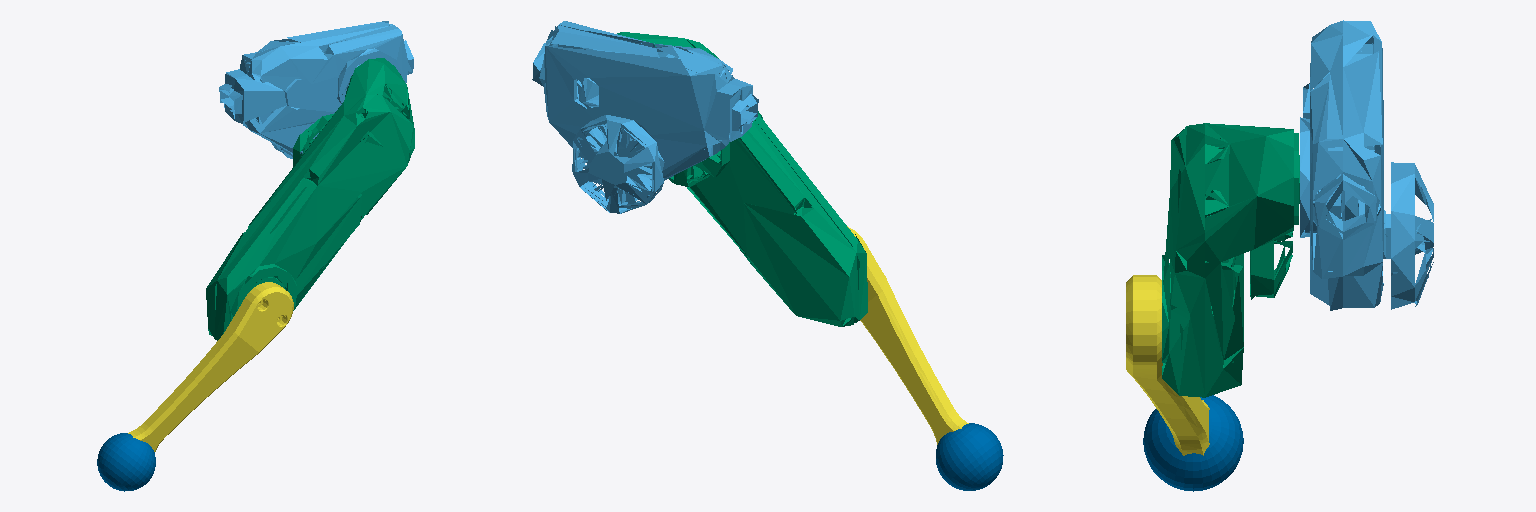
robot.urdf — ester:
<?xml version="1.0" ?>
<!-- =================================================================================== -->
<!-- |    This document was autogenerated by xacro from front_right_leg.urdf.xacro     | -->
<!-- |    EDITING THIS FILE BY HAND IS NOT RECOMMENDED                                 | -->
<!-- =================================================================================== -->
<robot name="ester">
  <!-- Dummy shoulder joint -->
  <link name="front_right_hip_aa_link"/>
  <link name="front_right_hip_fe_link">
    <inertial>
      <mass value="0.153185"/>
      <origin rpy="0 0 3.141592653589793" xyz="0.01808 0.004477 -0.011405"/>
      <inertia ixx="6.080E-05" ixy="3.521E-06" ixz="2.540E-06" iyy="1.052E-04" iyz="-1.247E-05" izz="7.157E-05"/>
    </inertial>
    <visual>
      <origin rpy="0 0 3.141592653589793" xyz="0 0 0"/>
      <geometry>
        <mesh filename="package://ester_description/meshes/leg/front_hip_fe.stl" scale="0.001 -0.001 0.001"/>
      </geometry>
    </visual>
    <collision>
      <origin rpy="0 0 3.141592653589793" xyz="0 0 0"/>
      <geometry>
        <mesh filename="package://ester_description/meshes/leg/front_hip_fe.stl" scale="0.001 -0.001 0.001"/>
      </geometry>
    </collision>
  </link>
  <joint name="front_right_hip_fe_joint" type="revolute">
    <origin rpy="0 0 0" xyz="0.083972 -0.0878 0"/>
    <axis xyz="1 0 0"/>
    <limit effort="2.43" lower="-0.7853981633974483" upper="0.17453292519943295" velocity="83.33333333333333"/>
    <dynamics damping="0.05" friction="0.1"/>
    <parent link="front_right_hip_aa_link"/>
    <child link="front_right_hip_fe_link"/>
  </joint>
  <transmission name="front_right_hip_fe_transmission">
    <type>transmission_interface/SimpleTransmission</type>
    <joint name="front_right_hip_fe_joint">
      <hardwareInterface>hardware_interface/EffortJointInterface</hardwareInterface>
    </joint>
    <actuator name="front_right_hip_fe_motor">
      <hardwareInterface>hardware_interface/EffortJointInterface</hardwareInterface>
      <mechanicalReduction>1</mechanicalReduction>
    </actuator>
  </transmission>
  <link name="front_right_upper_leg_link">
    <inertial>
      <mass value="0.158127"/>
      <origin rpy="0 0 -1.5707963267948966" xyz="0.0 -0.022563 -0.07012"/>
      <inertia ixx="2.824E-04" ixy="4.259E-09" ixz="-6.584E-08" iyy="2.882E-04" iyz="3.543E-05" izz="3.742E-05"/>
    </inertial>
    <visual>
      <origin rpy="0 0 -1.5707963267948966" xyz="0 0 0"/>
      <geometry>
        <mesh filename="package://ester_description/meshes/leg/front_upper_leg.stl" scale="0.001 0.001 0.001"/>
      </geometry>
    </visual>
    <collision>
      <origin rpy="0 0 -1.5707963267948966" xyz="0 0 0"/>
      <geometry>
        <mesh filename="package://ester_description/meshes/leg/front_upper_leg.stl" scale="0.001 0.001 0.001"/>
      </geometry>
    </collision>
  </link>
  <joint name="front_right_upper_leg_joint" type="revolute">
    <origin rpy="0 0.7853981633974483 0" xyz="0 -0.01415 0"/>
    <axis xyz="0 1 0"/>
    <limit effort="4.32" lower="-2.356194490192345" upper="2.356194490192345" velocity="46.875"/>
    <dynamics damping="0.05" friction="0.1"/>
    <parent link="front_right_hip_fe_link"/>
    <child link="front_right_upper_leg_link"/>
  </joint>
  <transmission name="front_right_upper_leg_transmission">
    <type>transmission_interface/SimpleTransmission</type>
    <joint name="front_right_upper_leg_joint">
      <hardwareInterface>hardware_interface/EffortJointInterface</hardwareInterface>
    </joint>
    <actuator name="front_right_upper_leg_motor">
      <hardwareInterface>hardware_interface/EffortJointInterface</hardwareInterface>
      <mechanicalReduction>1</mechanicalReduction>
    </actuator>
  </transmission>
  <link name="front_right_lower_leg_link">
    <inertial>
      <mass value="0.023961"/>
      <origin xyz="0 -0.00816 -0.044589"/>
      <inertia ixx="3.727E-05" ixy="-5.628E-16" ixz="2.285E-15" iyy="3.709E-05" iyz="5.027E-06" izz="1.815E-06"/>
    </inertial>
    <visual>
      <origin rpy="0 0 3.141592653589793" xyz="0 0 0"/>
      <geometry>
        <mesh filename="package://ester_description/meshes/leg/front_lower_leg.stl" scale="0.001 0.001 0.001"/>
      </geometry>
    </visual>
    <collision>
      <origin rpy="0 0 3.141592653589793" xyz="0 0 0"/>
      <geometry>
        <mesh filename="package://ester_description/meshes/leg/front_lower_leg.stl" scale="0.001 0.001 0.001"/>
      </geometry>
    </collision>
  </link>
  <joint name="front_right_lower_leg_joint" type="revolute">
    <axis xyz="0 1 0"/>
    <limit effort="4.32" lower="-2.5132741228718345" upper="2.5132741228718345" velocity="46.875"/>
    <dynamics damping="0.05" friction="0.1"/>
    <origin rpy="0 0 0" xyz="0 -0.0315 -0.1232"/>
    <parent link="front_right_upper_leg_link"/>
    <child link="front_right_lower_leg_link"/>
  </joint>
  <transmission name="front_right_lower_leg_transmission">
    <type>transmission_interface/SimpleTransmission</type>
    <joint name="front_right_lower_leg_joint">
      <hardwareInterface>hardware_interface/EffortJointInterface</hardwareInterface>
    </joint>
    <actuator name="front_right_lower_leg_motor">
      <hardwareInterface>hardware_interface/EffortJointInterface</hardwareInterface>
      <mechanicalReduction>1</mechanicalReduction>
    </actuator>
  </transmission>
  <link name="front_right_foot_contact_link">
    <inertial>
      <mass value="0.01"/>
      <origin xyz="0 0 0"/>
      <inertia ixx="1e-9" ixy="0.0" ixz="0.0" iyy="1e-9" iyz="0.0" izz="1e-9"/>
    </inertial>
    <visual>
      <origin xyz="0 0 0"/>
      <geometry>
        <sphere radius="0.015"/>
      </geometry>
    </visual>
    <collision>
      <origin xyz="0 0 0"/>
      <geometry>
        <sphere radius="0.015"/>
      </geometry>
    </collision>
  </link>
  <joint name="front_right_foot_contact_joint" type="fixed">
    <origin xyz="0 0 -0.105"/>
    <parent link="front_right_lower_leg_link"/>
    <child link="front_right_foot_contact_link"/>
  </joint>
</robot>

--- Render facts (derived) ---
The picture shows the robot from 3 angles, left to right: view 1: azimuth 30°, elevation 25°; view 2: azimuth 150°, elevation 25°; view 3: azimuth 270°, elevation 25°; orthographic projection.
Robot: ester — 5 links, 4 joints (3 revolute, 1 fixed); root link front_right_hip_aa_link; default pose: every joint at zero.
Visible links, largest first — view 1: front_right_upper_leg_link, front_right_hip_fe_link, front_right_lower_leg_link, front_right_foot_contact_link; view 2: front_right_hip_fe_link, front_right_upper_leg_link, front_right_lower_leg_link, front_right_foot_contact_link; view 3: front_right_upper_leg_link, front_right_hip_fe_link, front_right_lower_leg_link, front_right_foot_contact_link.
Boxes of the visible links, box(x1,y1,x2,y2) form: front_right_upper_leg_link: box(206, 58, 414, 340); front_right_hip_fe_link: box(219, 21, 413, 158); front_right_lower_leg_link: box(128, 282, 293, 451); front_right_foot_contact_link: box(97, 433, 155, 491); front_right_hip_fe_link: box(532, 21, 758, 213); front_right_upper_leg_link: box(617, 32, 867, 326); front_right_lower_leg_link: box(847, 226, 968, 444); front_right_foot_contact_link: box(936, 423, 1003, 490); front_right_upper_leg_link: box(1162, 123, 1299, 397); front_right_hip_fe_link: box(1300, 20, 1433, 310); front_right_lower_leg_link: box(1126, 275, 1209, 455); front_right_foot_contact_link: box(1143, 395, 1243, 491).
Bounding box of the posed robot: 0.2051 × 0.0915 × 0.2034 m (x, y, z).
3 mesh visuals loaded from 3 distinct referenced files (3 binary STL).
